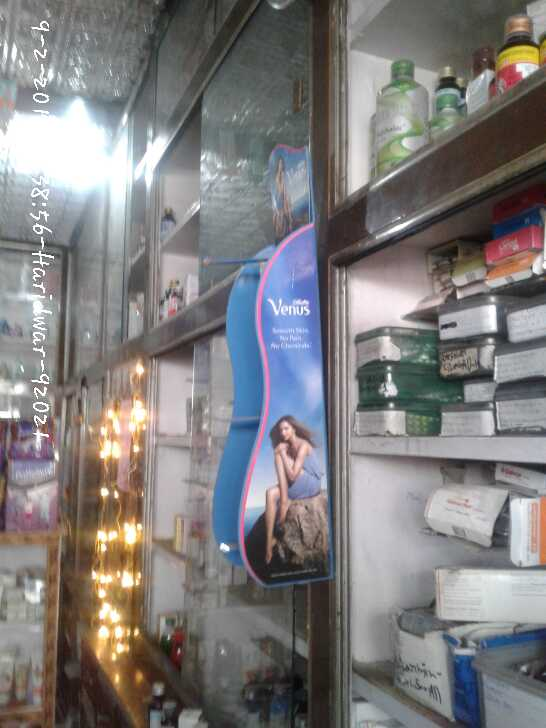reject: (195, 326, 268, 413)
